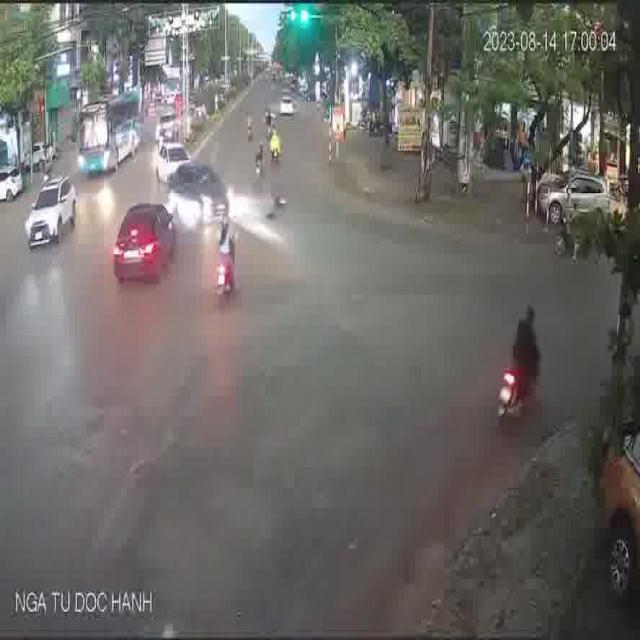normal: (483, 291, 556, 426), (201, 209, 251, 310)
